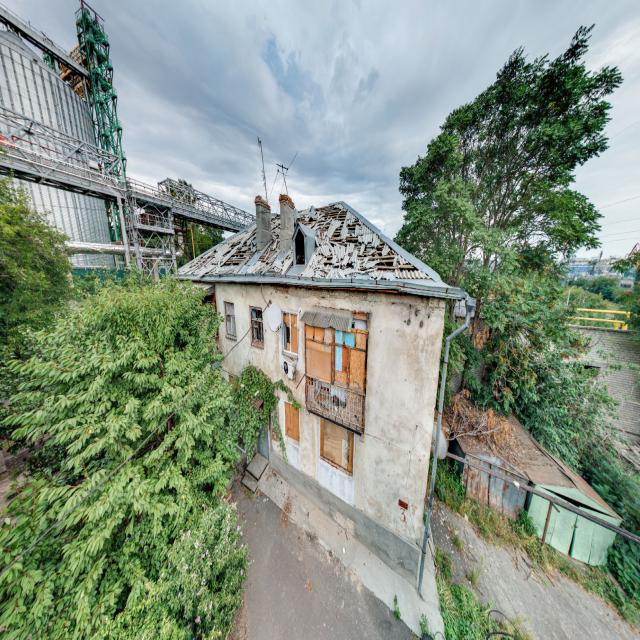broken_window: (322, 421, 354, 475), (283, 313, 298, 355), (285, 407, 299, 447), (251, 308, 264, 349), (224, 302, 236, 341)
building: (215, 281, 447, 587), (256, 425, 269, 461)
damage: (306, 312, 369, 435), (302, 288, 369, 303), (272, 286, 291, 306), (416, 316, 431, 332), (425, 306, 437, 323), (413, 306, 425, 320), (405, 317, 410, 325)
damaged_roof: (177, 193, 458, 295)
other: (108, 0, 640, 609), (0, 242, 419, 640), (413, 302, 640, 640)
roof: (176, 193, 461, 295)
